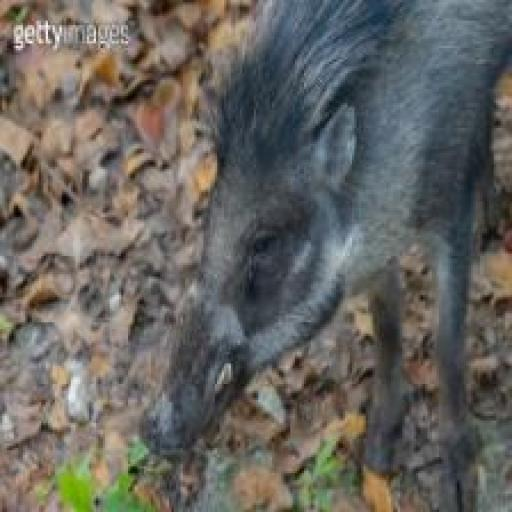Pig: (135, 0, 512, 512)
